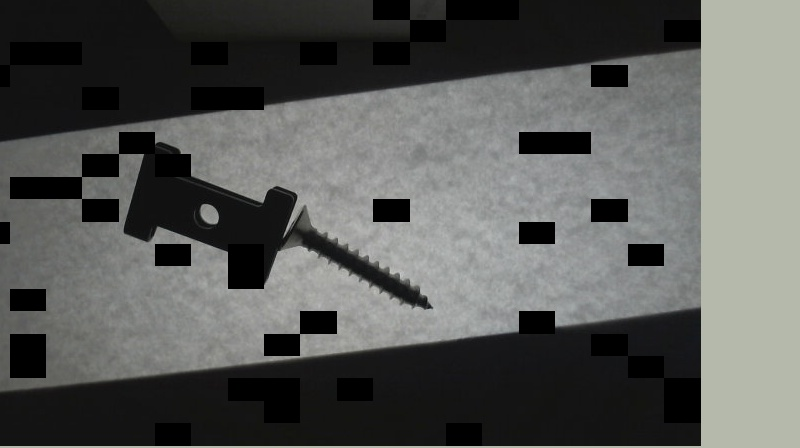O002: (121, 139, 291, 284)
S001: (274, 203, 434, 313)
